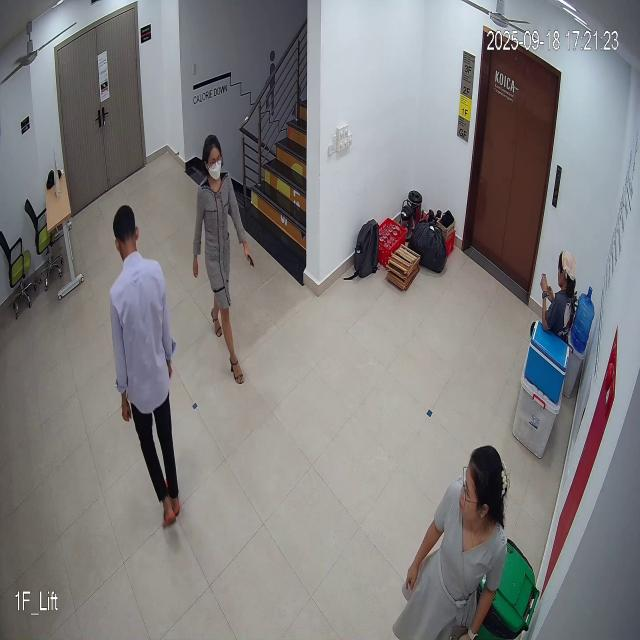face: (202, 129, 226, 184)
